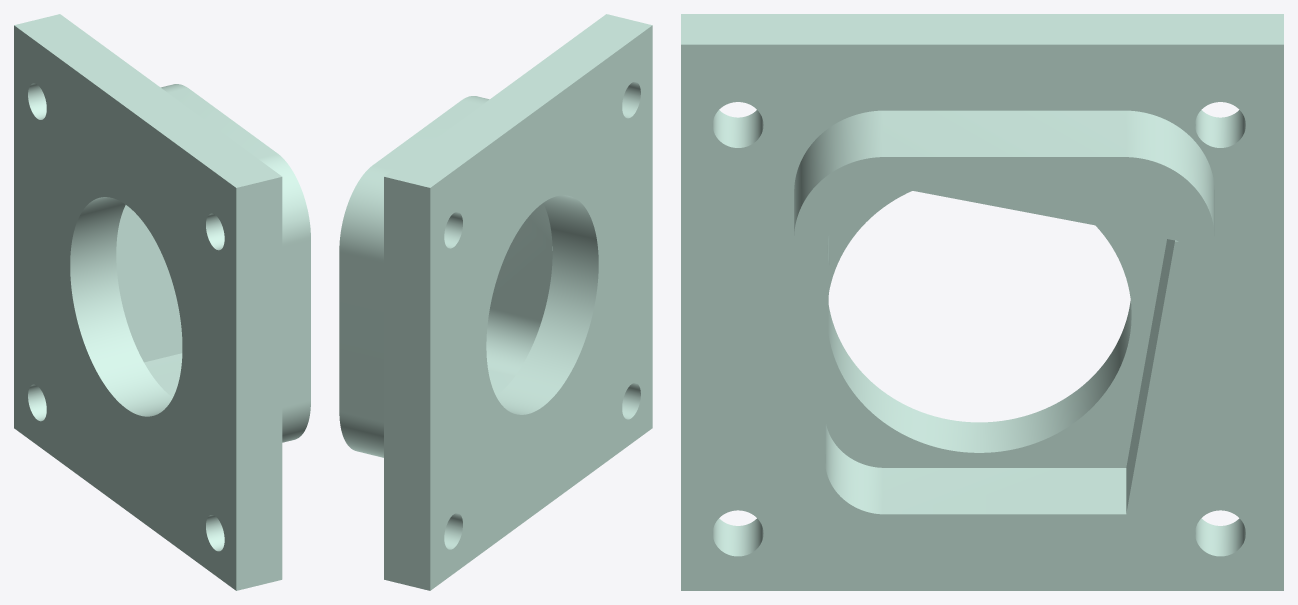
The picture shows the model from 3 angles, left to right: view 1: azimuth 30°, elevation 25°; view 2: azimuth 150°, elevation 25°; view 3: azimuth 270°, elevation 25°; orthographic projection. The views are drawn at different scales.
Visible parts, largest first — view 1: Renderer Node; view 2: Renderer Node; view 3: Renderer Node.
Part boxes in pixels (<box>): Renderer Node: <box>14,14,310,590</box>; Renderer Node: <box>339,14,652,590</box>; Renderer Node: <box>681,14,1283,590</box>.
Bounding box in the file's own units: 0.4531 × 1.5 × 1.5.
